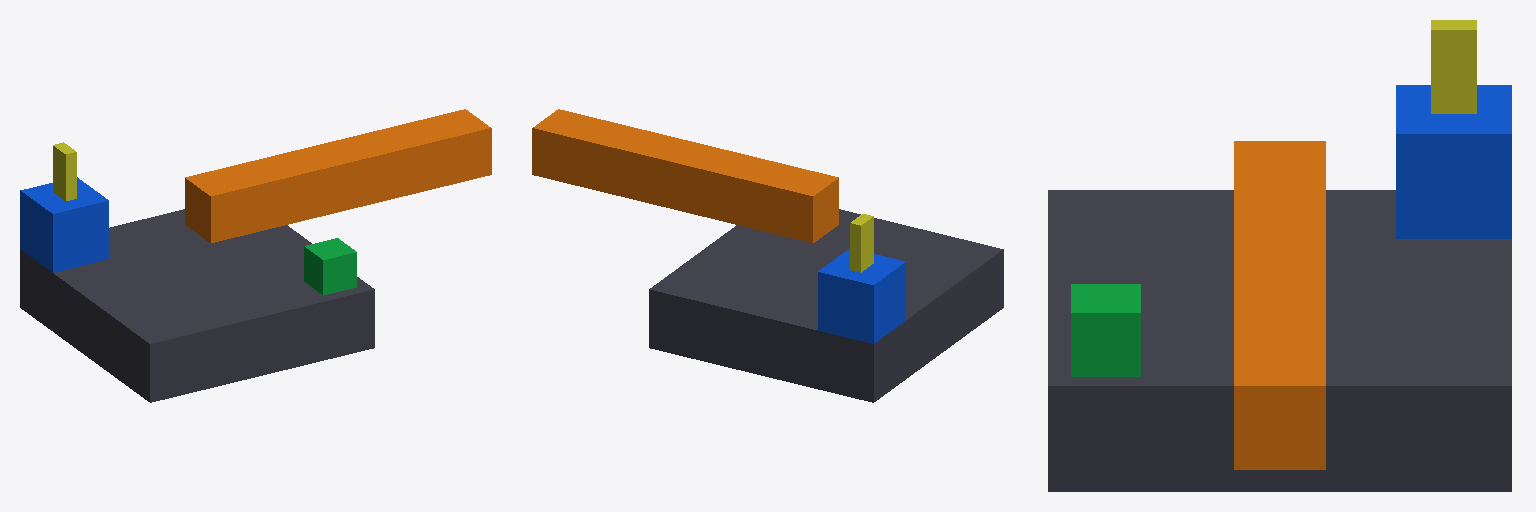
URDF robot description (arm):
<?xml version="1.0"?>
<robot name="arm">
  <link name="base_footprint"/>
  <link name="base"><visual><origin xyz="0 0 0.05"/><geometry><box size="0.4 0.4 0.1"/></geometry><material name="m0.30.30.351"><color rgba="0.3 0.3 0.35 1"/></material></visual></link>
  <link name="upper_arm"><visual name="upper_arm_shell"><origin xyz="0.25 0 0"/><geometry><box size="0.5 0.08 0.08"/></geometry><material name="m0.90.50.11"><color rgba="0.9 0.5 0.1 1"/></material></visual></link>
  <link name="carriage"><visual><origin xyz="0 0 0"/><geometry><box size="0.1 0.1 0.1"/></geometry><material name="m0.10.40.91"><color rgba="0.1 0.4 0.9 1"/></material></visual></link>
  <link name="camera"><visual><origin xyz="0 0 0"/><geometry><box size="0.06 0.06 0.06"/></geometry><material name="m0.10.70.31"><color rgba="0.1 0.7 0.3 1"/></material></visual></link>
  <link name="finger_left"><visual><origin xyz="0 0 0.09"/><geometry><box size="0.02 0.02 0.08"/></geometry><material name="m0.80.80.21"><color rgba="0.8 0.8 0.2 1"/></material></visual></link>
  <link name="finger_right"><visual><origin xyz="0 0 0.09"/><geometry><box size="0.02 0.02 0.08"/></geometry><material name="m0.80.80.21"><color rgba="0.8 0.8 0.2 1"/></material></visual></link>
  <link name="head"><visual><geometry><mesh filename="meshes/head.glb" scale="0.001 0.001 0.001"/></geometry></visual></link>
  <joint name="footprint" type="fixed"><parent link="base_footprint"/><child link="base"/></joint>
  <joint name="shoulder" type="revolute"><parent link="base"/><child link="upper_arm"/><origin xyz="0 0 0.2"/><axis xyz="0 1 0"/><limit lower="-1.5708" upper="1.5708" effort="1" velocity="1"/></joint>
  <joint name="lift" type="prismatic"><parent link="base"/><child link="carriage"/><origin xyz="-0.15 0.15 0.15"/><axis xyz="0 0 1"/><limit lower="0" upper="0.3" effort="1" velocity="1"/></joint>
  <joint name="camera_mount" type="fixed"><parent link="base"/><child link="camera"/><origin xyz="0.15 -0.15 0.13"/></joint>
  <joint name="grip" type="prismatic"><parent link="carriage"/><child link="finger_left"/><origin xyz="0 0.01 0"/><axis xyz="0 1 0"/><limit lower="0" upper="0.04" effort="1" velocity="1"/></joint>
  <joint name="grip_mirror" type="prismatic"><parent link="carriage"/><child link="finger_right"/><origin xyz="0 -0.01 0"/><axis xyz="0 1 0"/><limit lower="-0.04" upper="0" effort="1" velocity="1"/><mimic joint="grip" multiplier="-1"/></joint>
  <joint name="nod" type="revolute"><parent link="base"/><child link="head"/><origin xyz="-0.15 -0.15 0.14"/><axis xyz="0 1 0"/><limit lower="-1" upper="1" effort="1" velocity="1"/></joint>
</robot>

--- Facts derived from the render (not from the file) ---
Views: 3 orthographic renders of the robot side by side, from view 1: azimuth 30°, elevation 25°; view 2: azimuth 150°, elevation 25°; view 3: azimuth 270°, elevation 25°.
Robot: arm — 8 links, 7 joints (2 revolute, 3 prismatic, 2 fixed); root link base_footprint; default pose: every joint at zero.
Links seen in each view (by area): view 1: base, upper_arm, carriage, camera, finger_right; view 2: base, upper_arm, carriage, finger_left; view 3: base, upper_arm, carriage, camera, finger_left, finger_right.
Link boxes in pixels (<box>): base: <box>20,209,374,402</box>; upper_arm: <box>185,109,491,242</box>; carriage: <box>20,177,108,272</box>; camera: <box>304,238,356,295</box>; finger_right: <box>59,147,76,200</box>; base: <box>649,209,1003,402</box>; upper_arm: <box>532,109,838,242</box>; carriage: <box>818,248,905,343</box>; finger_left: <box>850,218,867,272</box>; base: <box>1048,190,1511,491</box>; upper_arm: <box>1234,141,1325,469</box>; carriage: <box>1396,85,1511,238</box>; camera: <box>1071,284,1140,376</box>; finger_left: <box>1454,20,1476,113</box>; finger_right: <box>1431,20,1453,113</box>.
Bounding box of the posed robot: 0.7 × 0.4 × 0.28 m (x, y, z).
Meshes: 1 distinct files referenced, 0 mesh visuals loaded (none loaded); not drawn: 1 (reference not matched to a file when rendering).
